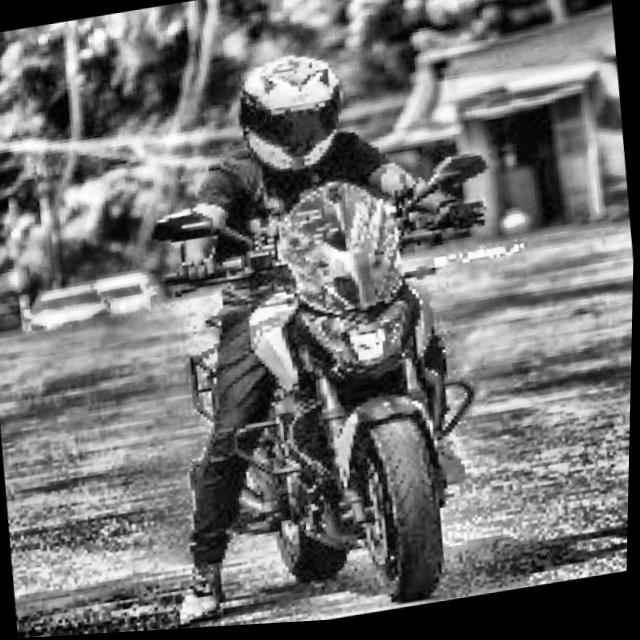motorcycle: (144, 136, 555, 633)
